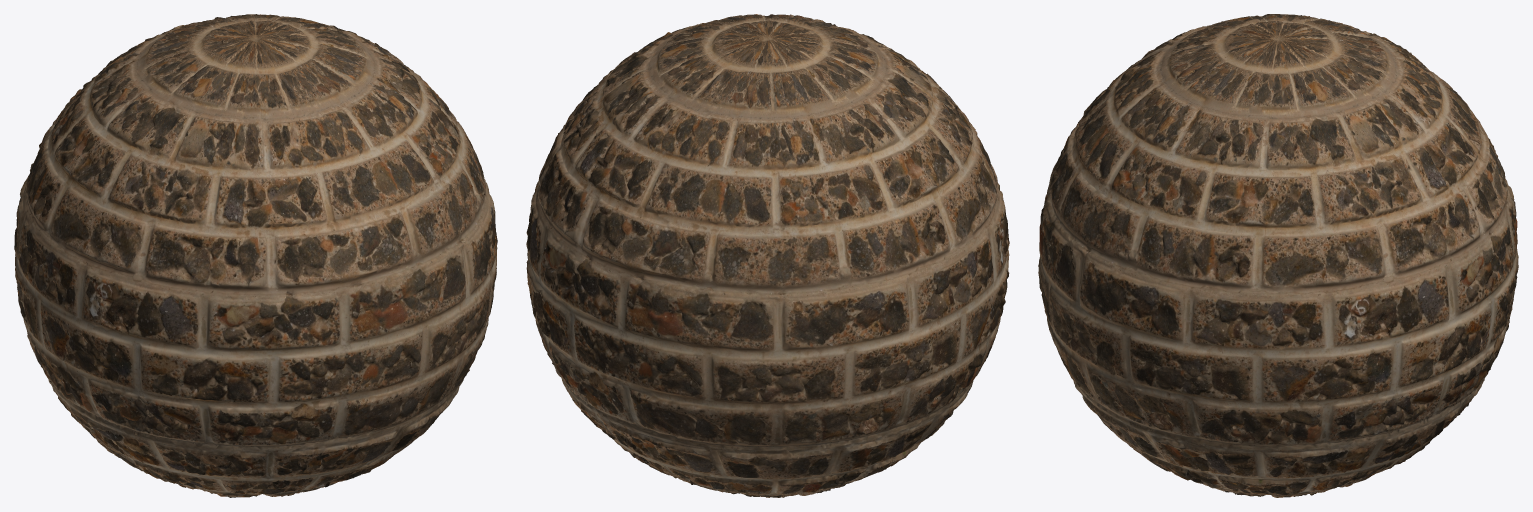
File: brick_wall_04_1k.gltf
3 renders of one model, left to right at view 1: azimuth 30°, elevation 25°; view 2: azimuth 150°, elevation 25°; view 3: azimuth 270°, elevation 25°, orthographic.
Visible parts, largest first — view 1: sphere_gltf; view 2: sphere_gltf; view 3: sphere_gltf.
Boxes of the visible parts, x1,y1,x2,y2 form: sphere_gltf: (14, 14, 497, 497); sphere_gltf: (526, 14, 1009, 497); sphere_gltf: (1038, 14, 1518, 497).
Bounding box in the file's own units: 1.4 × 1.4 × 1.4.
1 material, 1 textured.
